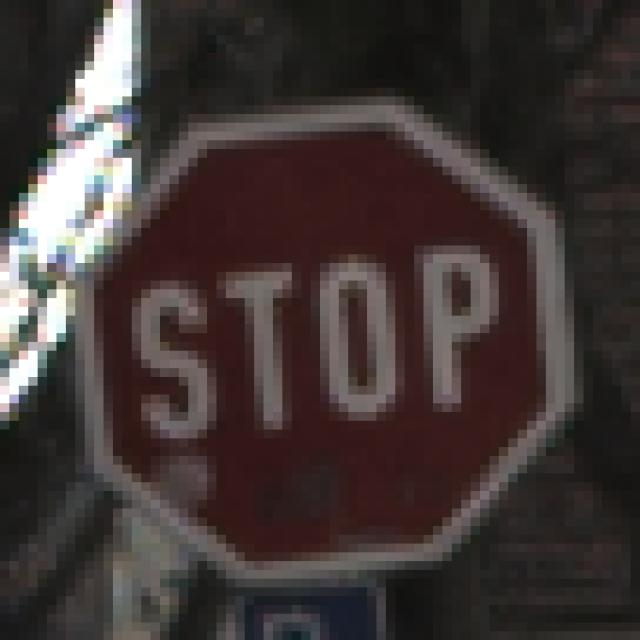STOP: (58, 63, 585, 589)
